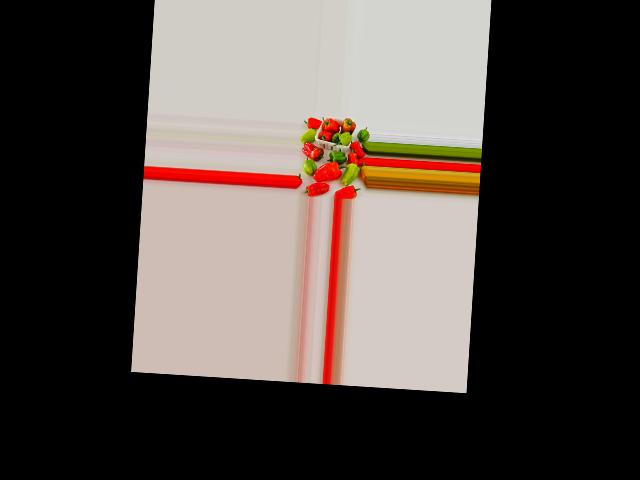bell_pepper: (337, 182, 361, 200)
